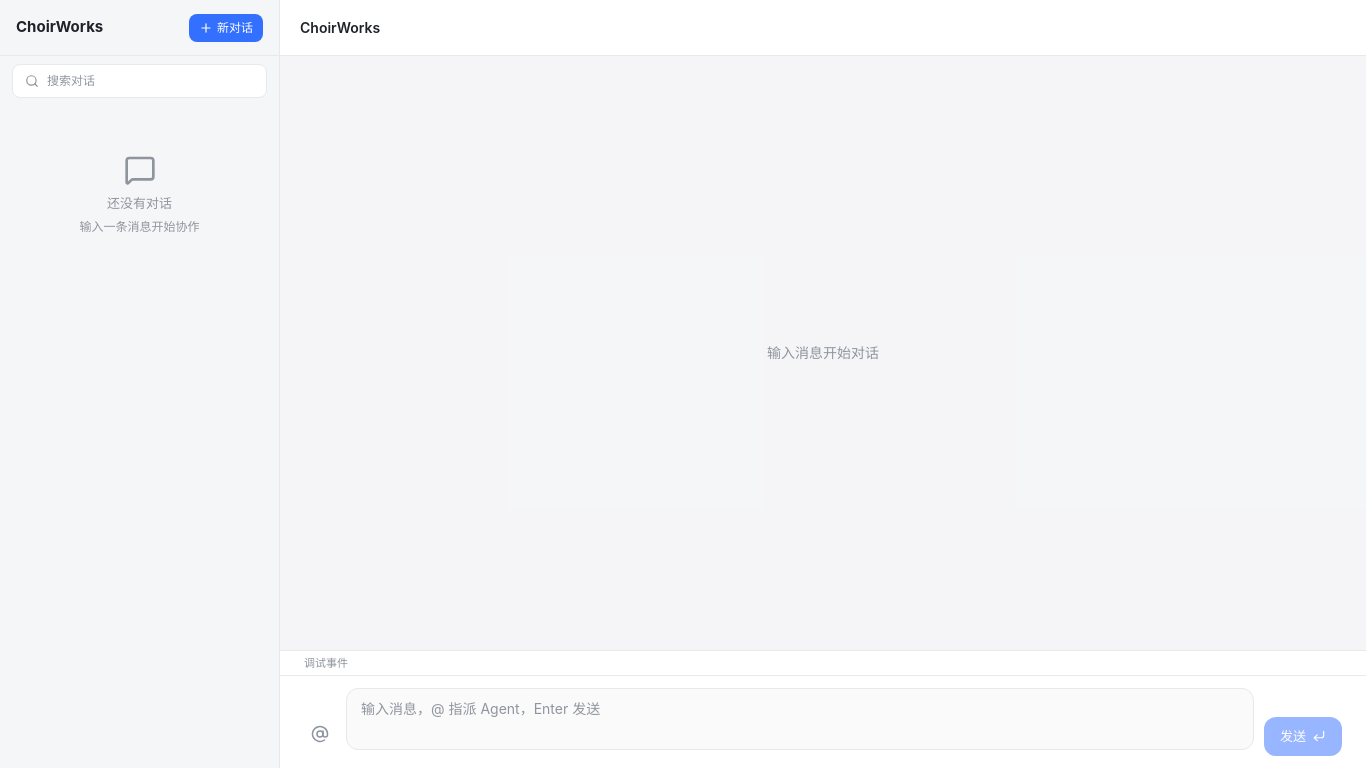
App › navigates to the new conversation before the stream completes
In the text box with placeholder "输入消息，@ 指派 Agent，Enter 发送": coordinates (800, 719) [346, 688, 1254, 750], type "分析 X"
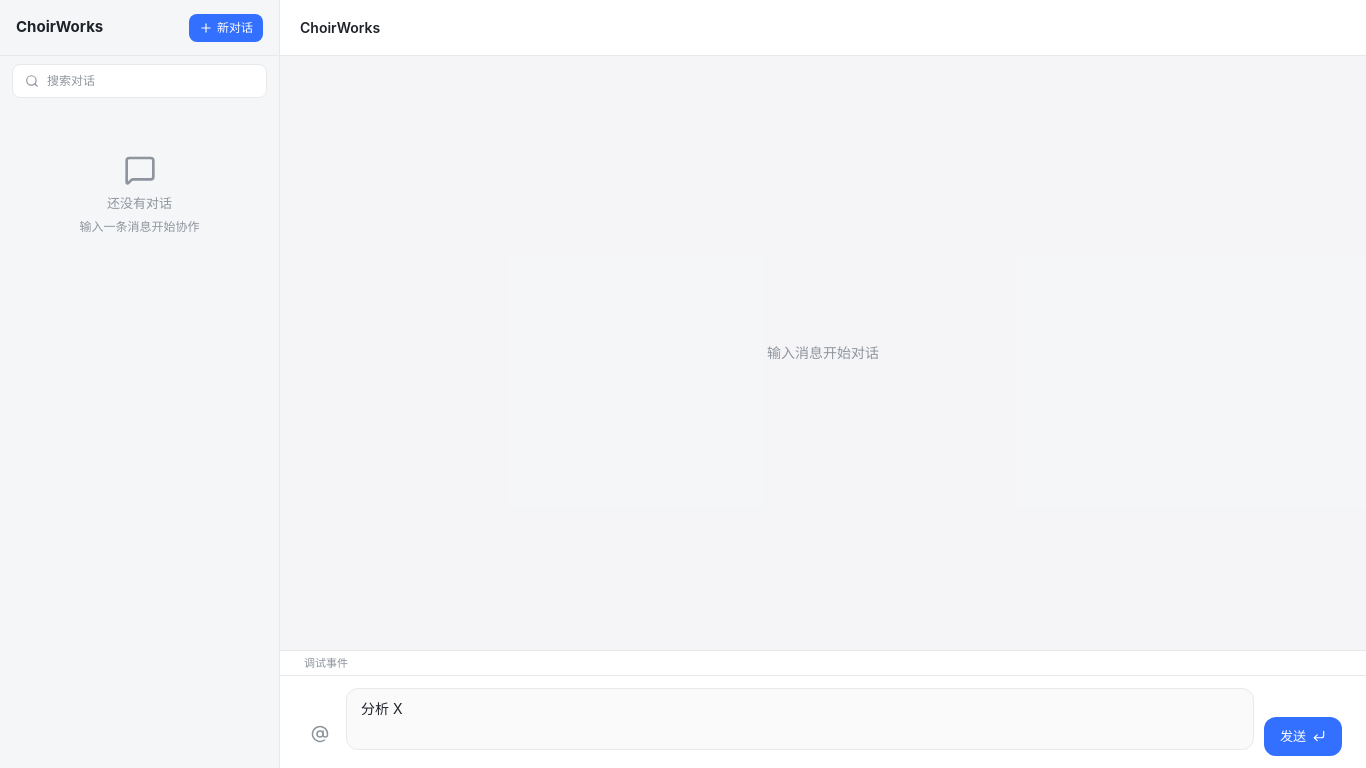
Click the button "发送": coordinates (1303, 736) [1264, 716, 1342, 756]
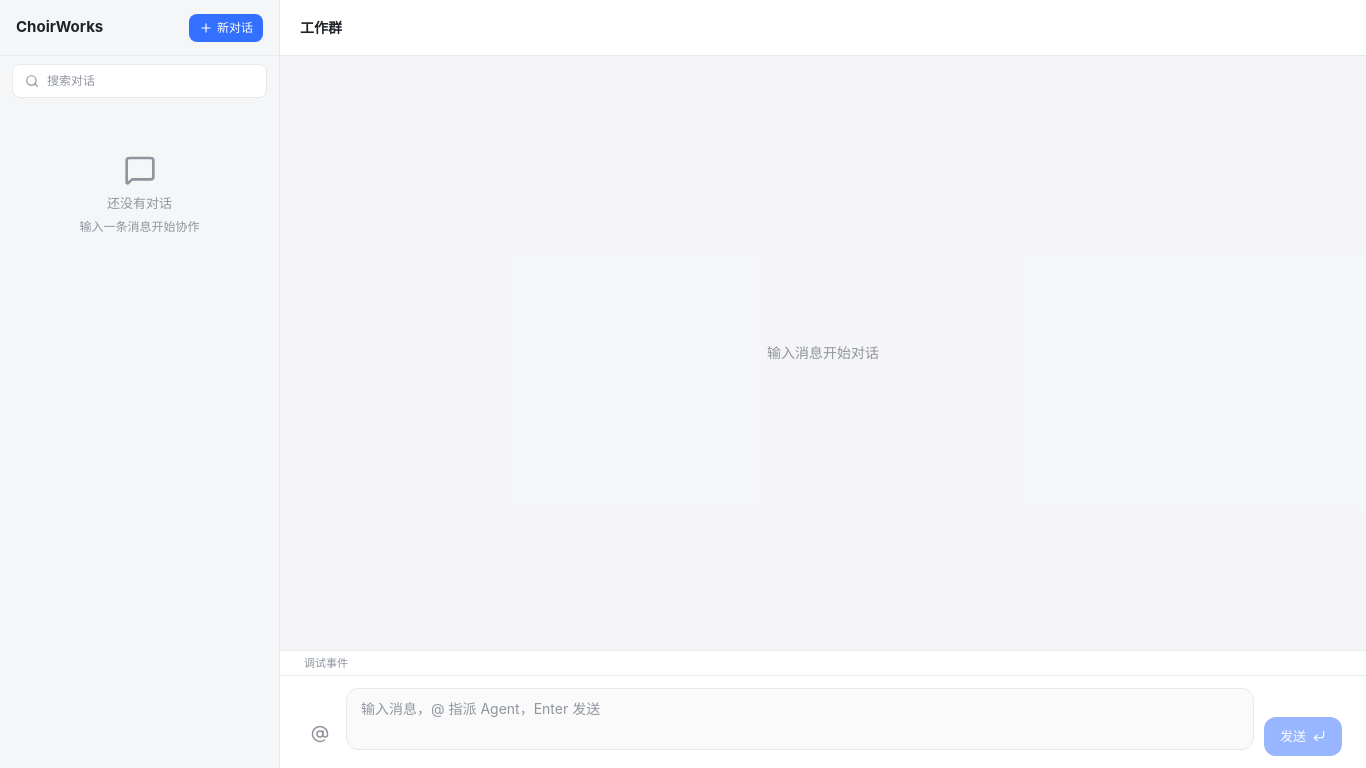
Now the button "发送" is disabled, box [1264, 716, 1342, 756]
Now the text box with placeholder "输入消息，@ 指派 Agent，Enter 发送" is empty, box [346, 688, 1254, 750]
